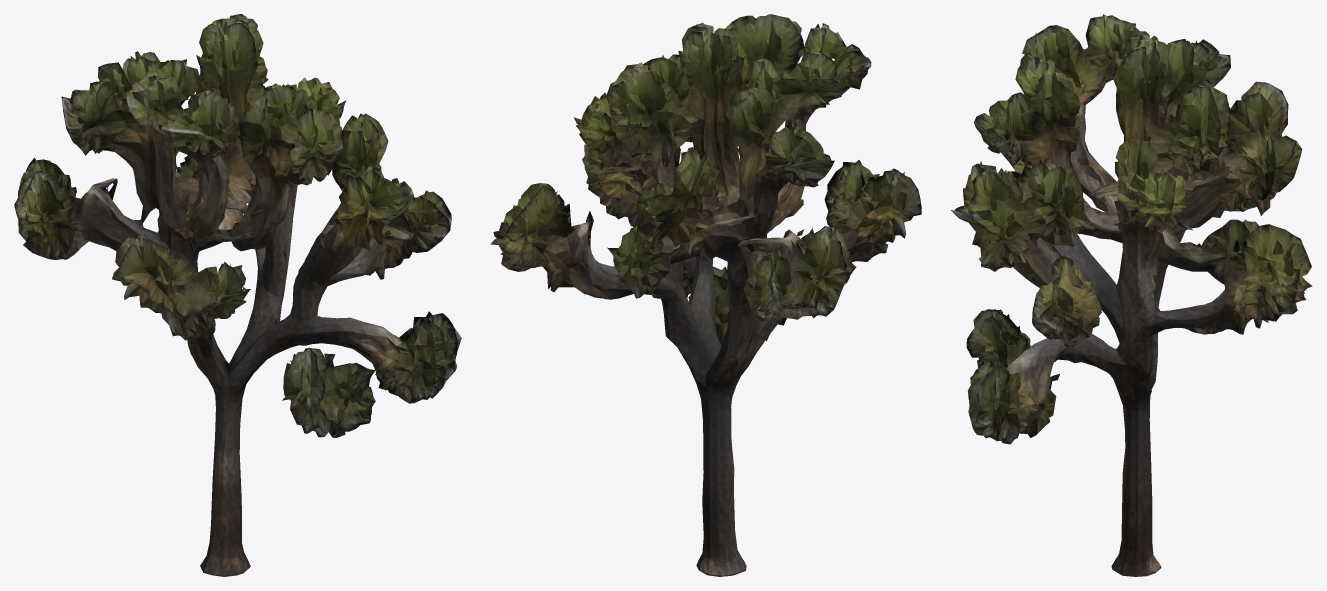
File: joshua.glb
The picture shows the model from 3 angles, left to right: view 1: azimuth 30°, elevation 25°; view 2: azimuth 150°, elevation 25°; view 3: azimuth 270°, elevation 25°; orthographic projection.
Visible parts, largest first — view 1: world; view 2: world; view 3: world.
Part boxes in pixels (x1,y1,x2,y2): world: (14, 14, 461, 576); world: (490, 14, 921, 576); world: (951, 14, 1312, 576).
Size of the model in its own units: 2.43 by 3.6 by 2.23.
Materials: 1 (1 with a texture image).
